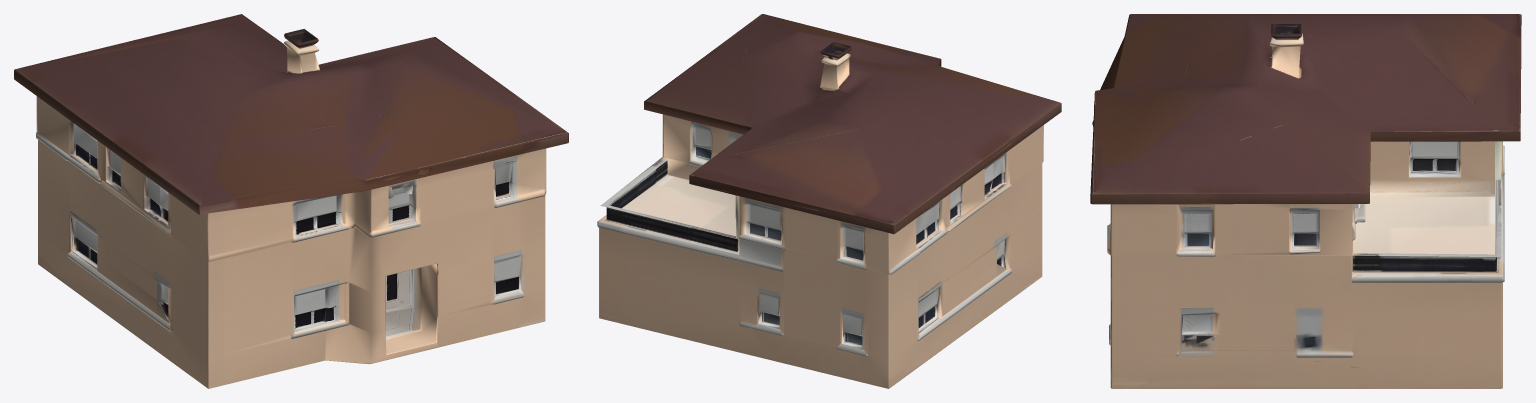
File: bld_556855842.glb
The picture shows the model from 3 angles, left to right: view 1: azimuth 30°, elevation 25°; view 2: azimuth 150°, elevation 25°; view 3: azimuth 270°, elevation 25°; orthographic projection. The views are drawn at different scales.
Bounding box in the file's own units: 1.9 × 1.36 × 1.91.
Materials: 1 (1 with a texture image).
